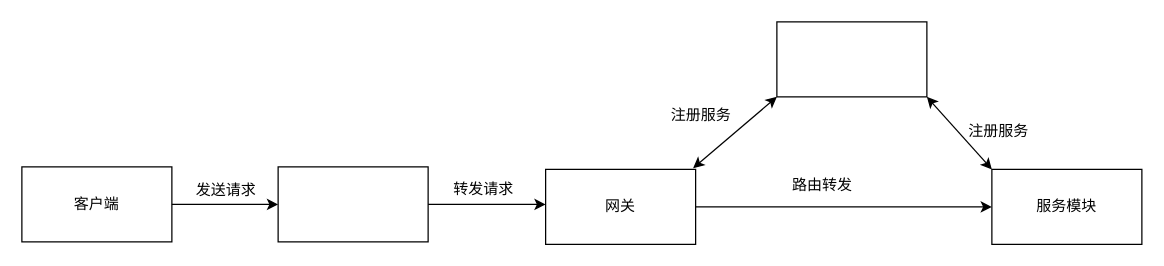
Some shapes in this 1164 by 266 pixel diagram are drawn without their labels. Each missing label, with the centre of its shape:
Nginx: the point at 352,204
服务中心: the point at 851,59
